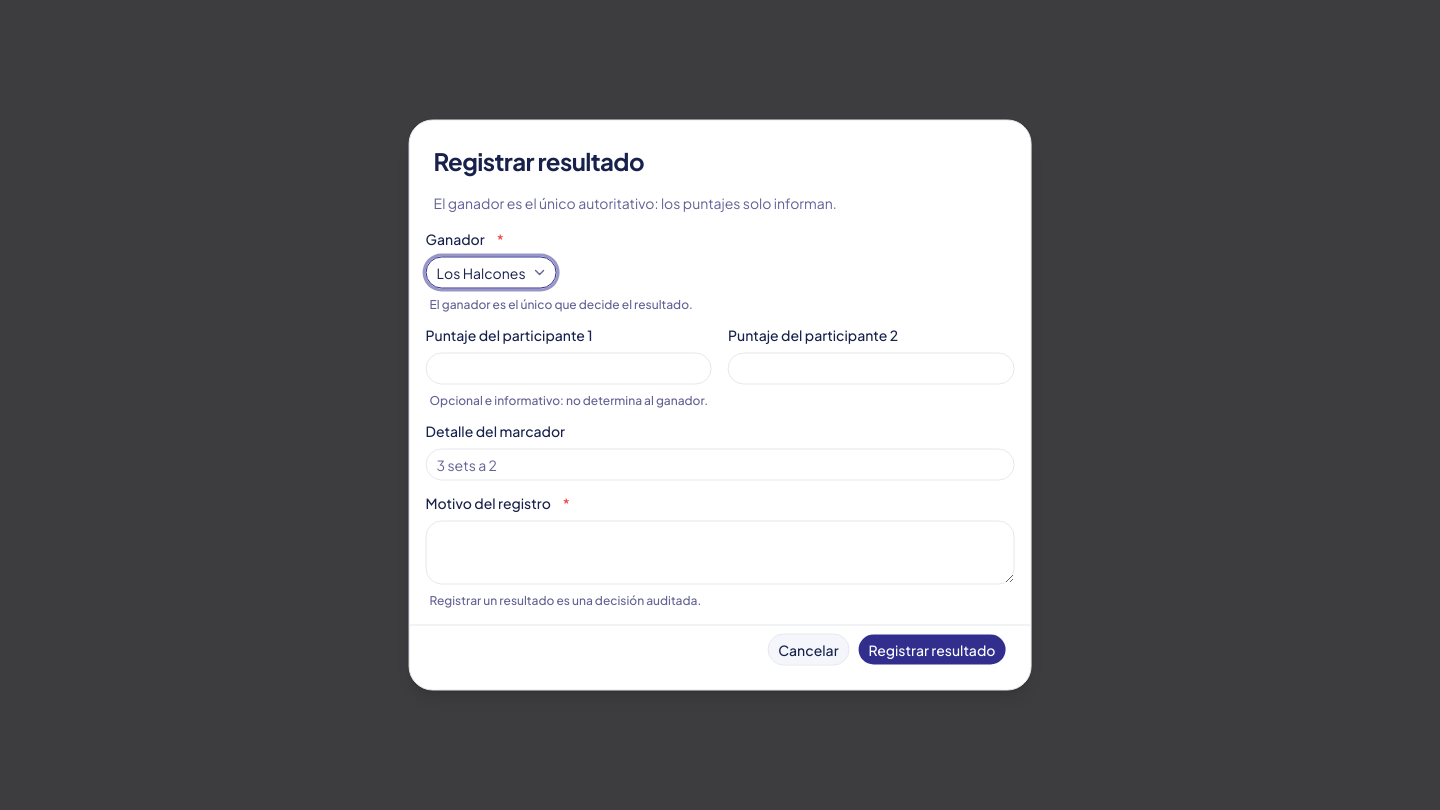
CompetenciaResultadoDialog › ofrece SOLO los equipos que ocupan un slot como ganador
The image size is (1440, 810).
Expected: the dialog is shown, [409, 120, 1031, 690]
Click the dropdown at (491, 272), box [426, 256, 557, 288]
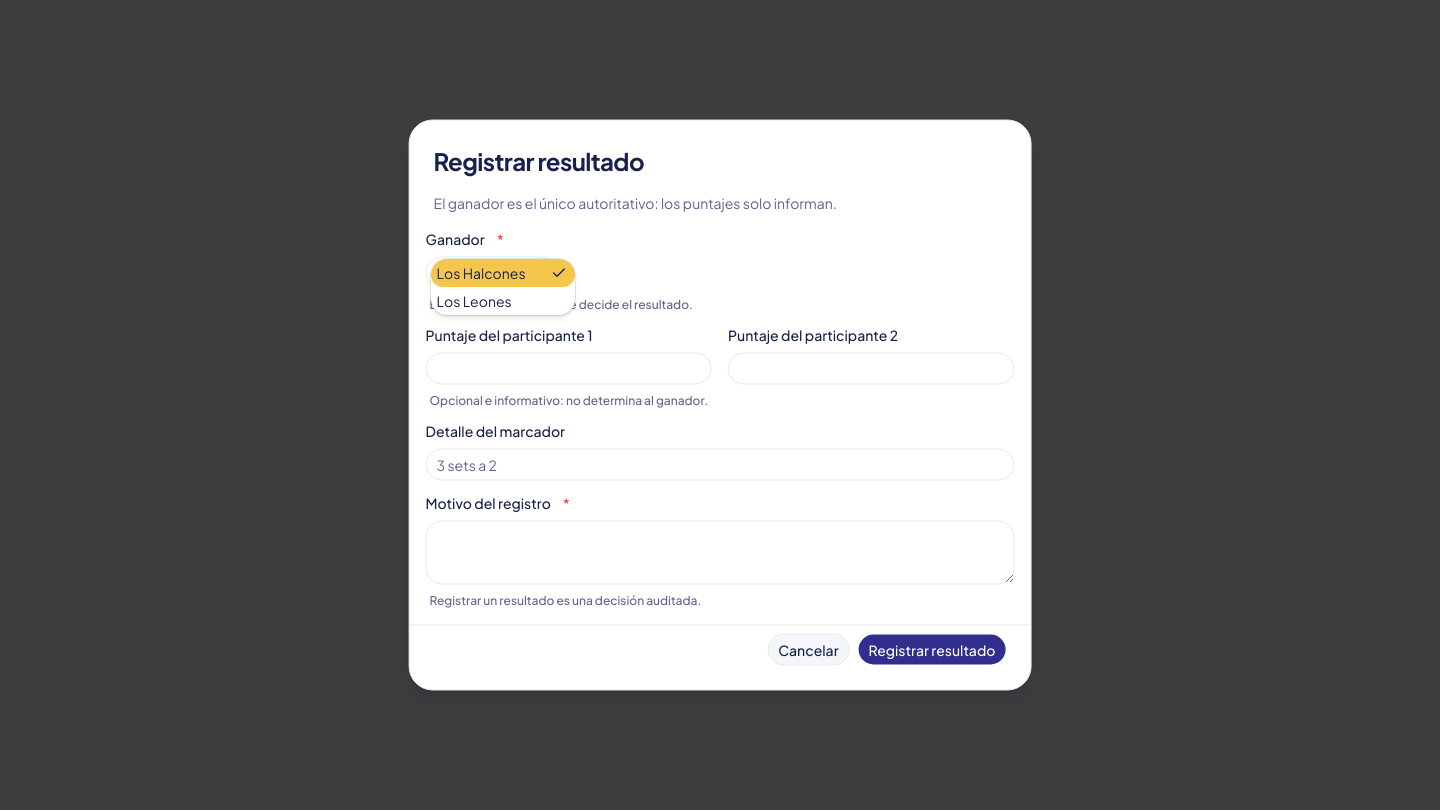
Expected: the options read "Los Halcones", "Los Leones", in this order, [431, 258, 575, 286]; [437, 292, 512, 310]
